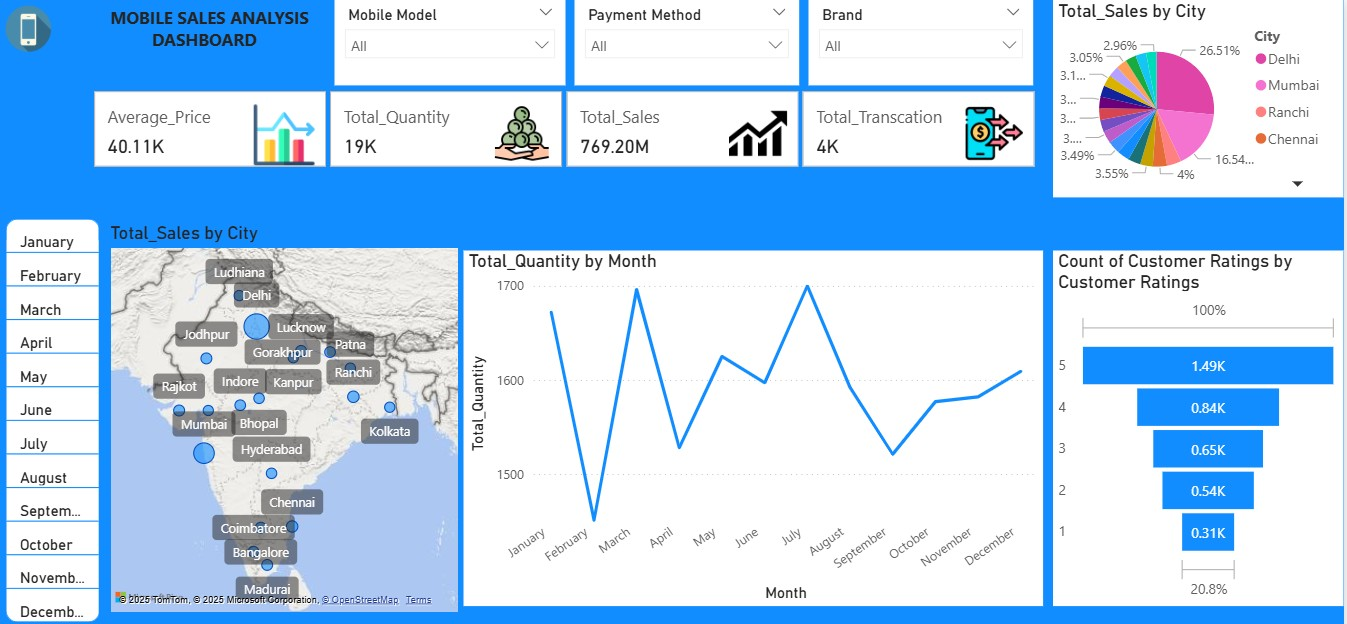

The page's visual inventory and layout, read from the dashboard file:
{"tool":"powerbi","page":{"name":"DashBoard","canvas":[1280,720],"ordinal":0},"visuals":[{"type":"image","box":[0,0,53.3,54.4],"z":0},{"type":"advancedSlicerVisual","fields":{"Values":["Calendar_Table.Calender_Date.Variation.Date Hierarchy.Month"]},"box":[0,202.5,100,398.8],"z":1000},{"type":"cardVisual","fields":{"Data":["mobile_sales_query.Average_Price","mobile_sales_query.Total_Quantity","mobile_sales_query.Total_Sales","mobile_sales_query.Total_Transcation"]},"box":[85,81.2,907.5,82.5],"z":2000},{"type":"slicer","fields":{"Values":["mobile_sales_query.Mobile Model"]},"box":[318.8,0,220,81.2],"z":3000},{"type":"slicer","fields":{"Values":["mobile_sales_query.Payment Method"]},"box":[547.5,0,213.8,81.2],"z":4000},{"type":"slicer","fields":{"Values":["mobile_sales_query.Brand"]},"box":[770,0,213.8,81.2],"z":5000},{"type":"textbox","box":[100,0,205,81.2],"z":6000},{"type":"map","fields":{"Category":["mobile_sales_query.City"],"Size":["mobile_sales_query.Total_Sales"]},"box":[100,211.1,341.1,376.7],"z":7000},{"type":"lineChart","fields":{"Category":["Calendar_Table.Calender_Date.Variation.Date Hierarchy.Month"],"Y":["mobile_sales_query.Total_Quantity"]},"box":[441.7,238.3,551.7,338.3],"z":8000},{"type":"funnel","fields":{"Category":["mobile_sales_query.Customer Ratings"],"Y":["CountNonNull(mobile_sales_query.Customer Ratings)"]},"box":[1003.3,238.3,276.7,338.3],"z":8001},{"type":"pieChart","fields":{"Category":["mobile_sales_query.City"],"Y":["mobile_sales_query.Total_Sales"]},"box":[1003.3,0,276.7,188],"z":8002}]}

Visuals, with their boxes on the page's 1280x720 design canvas (x1, y1, x2, y2). These are canvas units, not pixel positions in the 1347x624 screenshot, which may show the page scaled, cropped or inside an application window:
image: <bbox>0, 0, 53, 54</bbox>
advancedSlicerVisual - Calendar_Table.Calender_Date.Variation.Date Hierarchy.Month: <bbox>0, 202, 100, 601</bbox>
cardVisual - mobile_sales_query.Average_Price x mobile_sales_query.Total_Quantity: <bbox>85, 81, 992, 164</bbox>
slicer - mobile_sales_query.Mobile Model: <bbox>319, 0, 539, 81</bbox>
slicer - mobile_sales_query.Payment Method: <bbox>548, 0, 761, 81</bbox>
slicer - mobile_sales_query.Brand: <bbox>770, 0, 984, 81</bbox>
textbox: <bbox>100, 0, 305, 81</bbox>
map - mobile_sales_query.City x mobile_sales_query.Total_Sales: <bbox>100, 211, 441, 588</bbox>
lineChart - Calendar_Table.Calender_Date.Variation.Date Hierarchy.Month x mobile_sales_query.Total_Quantity: <bbox>442, 238, 993, 577</bbox>
funnel - mobile_sales_query.Customer Ratings x CountNonNull(mobile_sales_query.Customer Ratings): <bbox>1003, 238, 1280, 577</bbox>
pieChart - mobile_sales_query.City x mobile_sales_query.Total_Sales: <bbox>1003, 0, 1280, 188</bbox>
